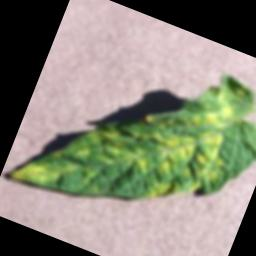Leaf_Mold: (70, 47, 252, 224), (2, 133, 78, 200)
